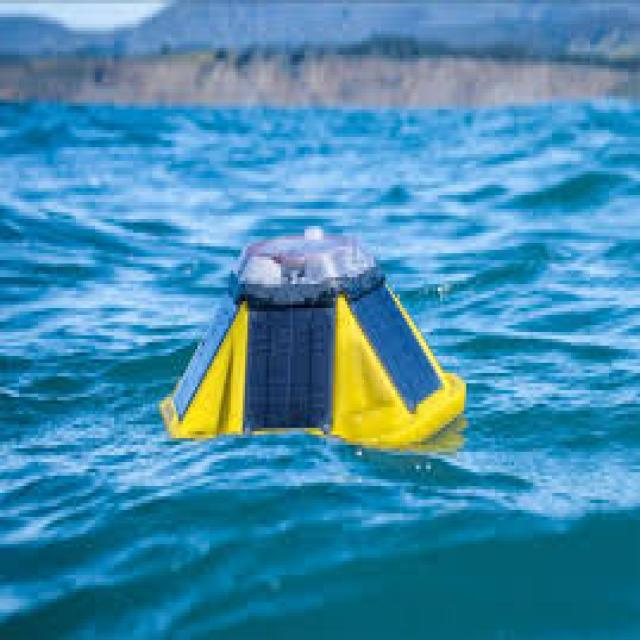marque: (144, 151, 481, 454)
